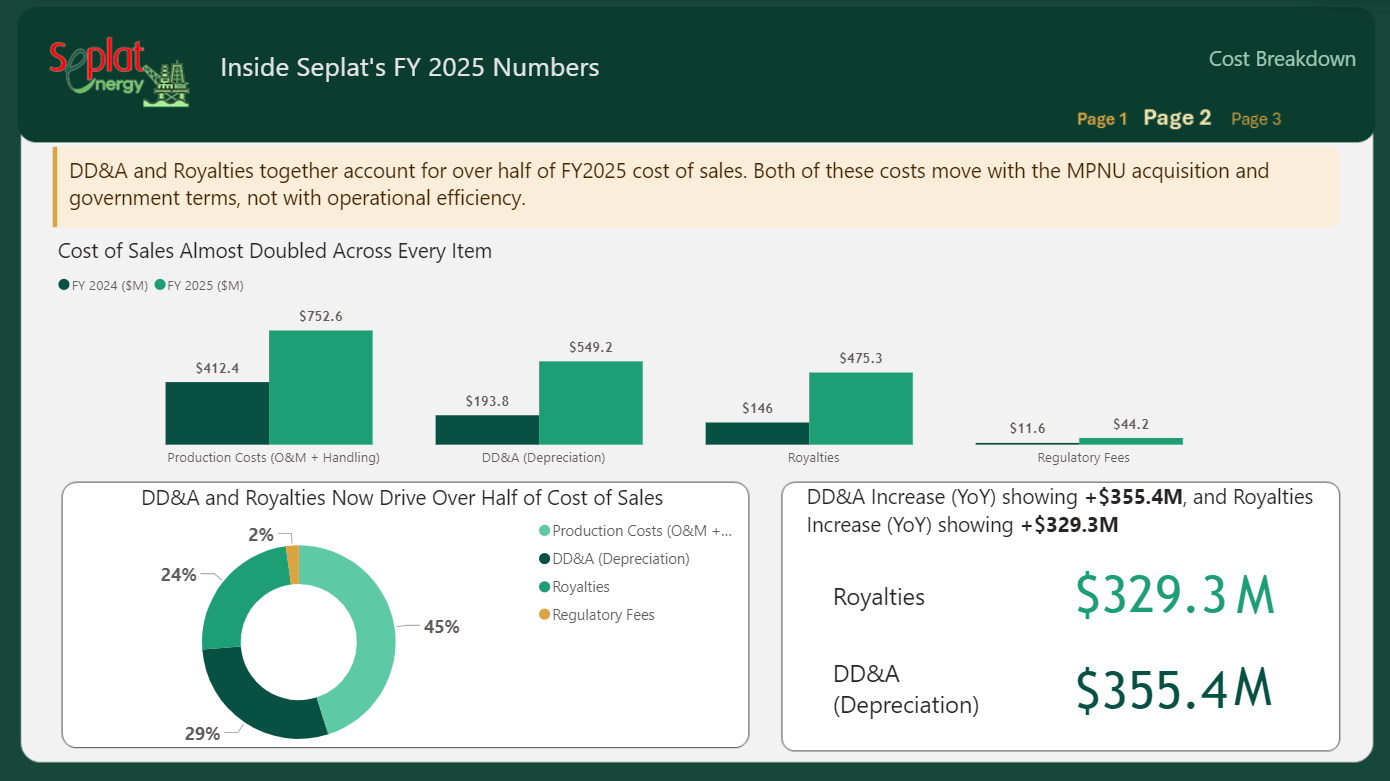

This screenshot's page, from the dashboard's own definition file:
{"tool":"powerbi","page":{"name":"Page 2","canvas":[1280,720],"ordinal":1},"visuals":[{"type":"donutChart","title":"DD&A and Royalties Now Drive Over Half of Cost of Sales","fields":{"Category":["Raw_IncomeStatement.Metric"],"Y":["All Measures.% of Total Cost of Sales"]},"box":[58.1,440.7,630.2,264],"z":0},{"type":"textbox","box":[66.3,139.5,1129.1,59.3],"z":1000},{"type":"clusteredColumnChart","title":"Cost of Sales Almost Doubled Across Every Item","fields":{"Category":["Raw_IncomeStatement.Metric"],"Series":["Raw_IncomeStatement.Year"],"Y":["Sum(Raw_IncomeStatement.Amount)"]},"box":[56,217,1137.2,219.8],"z":2000},{"type":"card","fields":{"Values":["Avg(Cost_Breakdown.Change $M)"]},"box":[933.1,491.3,238.8,96.1],"z":3000},{"type":"card","fields":{"Values":["Avg(Cost_Breakdown.Change $M)"]},"box":[933.1,580.4,238.8,90.6],"z":4000},{"type":"textbox","box":[1125.6,509.3,69.8,77.9],"z":5000},{"type":"textbox","box":[1123.3,593,69.8,77.9],"z":6000},{"type":"textbox","box":[758.8,524.2,150.9,56.3],"z":7000},{"type":"textbox","box":[758.8,592.8,156.4,78.2],"z":8000},{"type":"textbox","box":[734.9,436,479.1,66.3],"z":9000},{"type":"textbox","box":[1100,37.2,157,40.7],"z":10000},{"type":"textbox","box":[203.5,40.7,383.7,45.3],"z":11000},{"type":"pageNavigator","box":[976.7,86,198.8,40.7],"z":12000}]}

Visuals, with their boxes in screenshot pixels (x1, y1, x2, y2), scaled from the page's 1280x720 canvas onto the 1390x781 screenshot:
"DD&A and Royalties Now Drive Over Half of Cost of Sales" donutChart: (63, 478, 747, 764)
textbox: (72, 151, 1298, 216)
"Cost of Sales Almost Doubled Across Every Item" clusteredColumnChart: (61, 235, 1296, 474)
card - Avg(Cost_Breakdown.Change $M): (1013, 533, 1273, 637)
card - Avg(Cost_Breakdown.Change $M): (1013, 630, 1273, 728)
textbox: (1222, 552, 1298, 637)
textbox: (1220, 643, 1296, 728)
textbox: (824, 569, 988, 630)
textbox: (824, 643, 994, 728)
textbox: (798, 473, 1318, 545)
textbox: (1195, 40, 1365, 84)
textbox: (221, 44, 638, 93)
pageNavigator: (1061, 93, 1277, 137)
